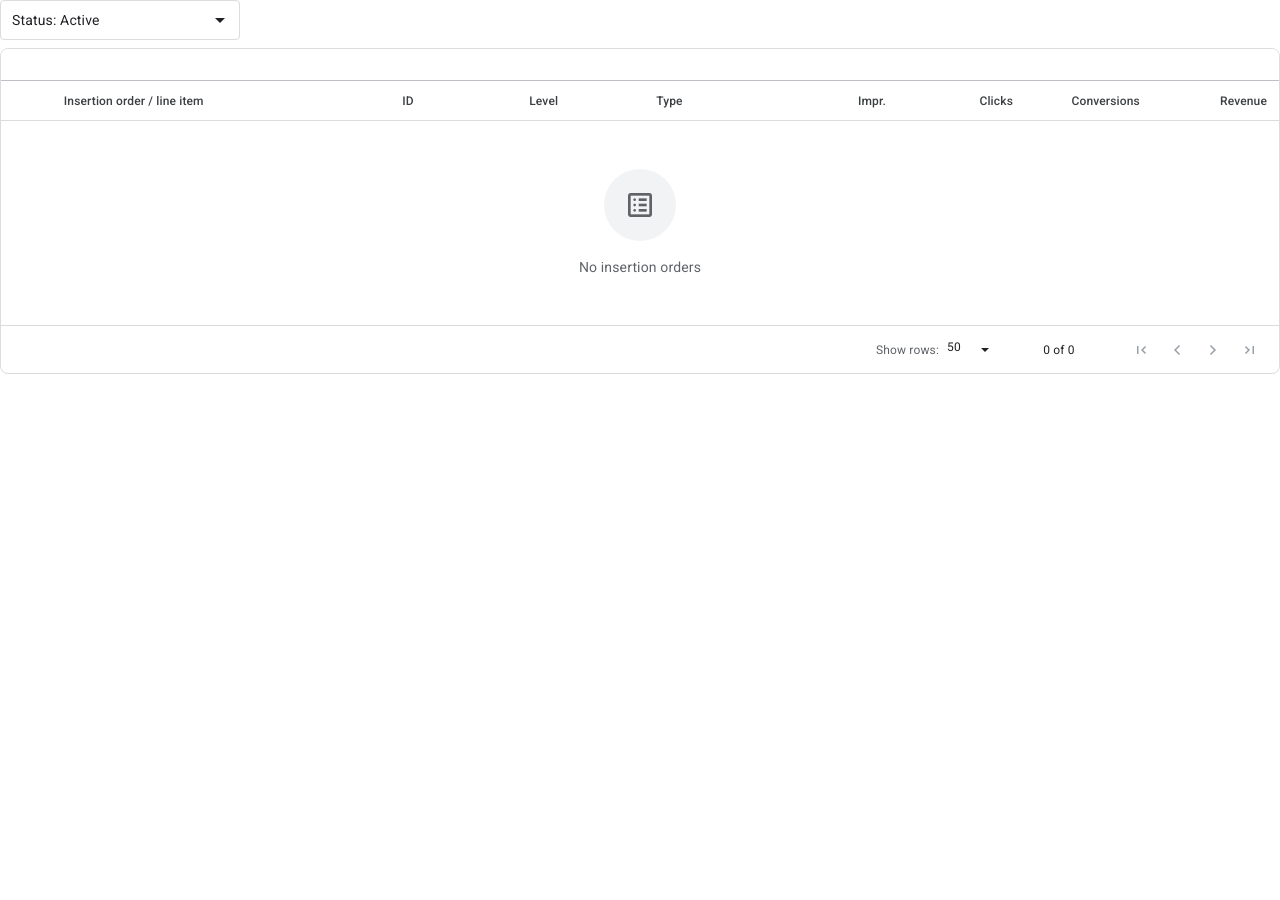
Test: Campaign Combined tab › uses the Active default of the Insertion orders tab: a draft IO is not listed until the filter allows it
Expected: the text "No insertion orders" is shown, [579, 257, 701, 277]
Expected: the text "IO 10" is not shown
Click the dropdown named "Status filter" at (56, 20), box [12, 12, 100, 28]
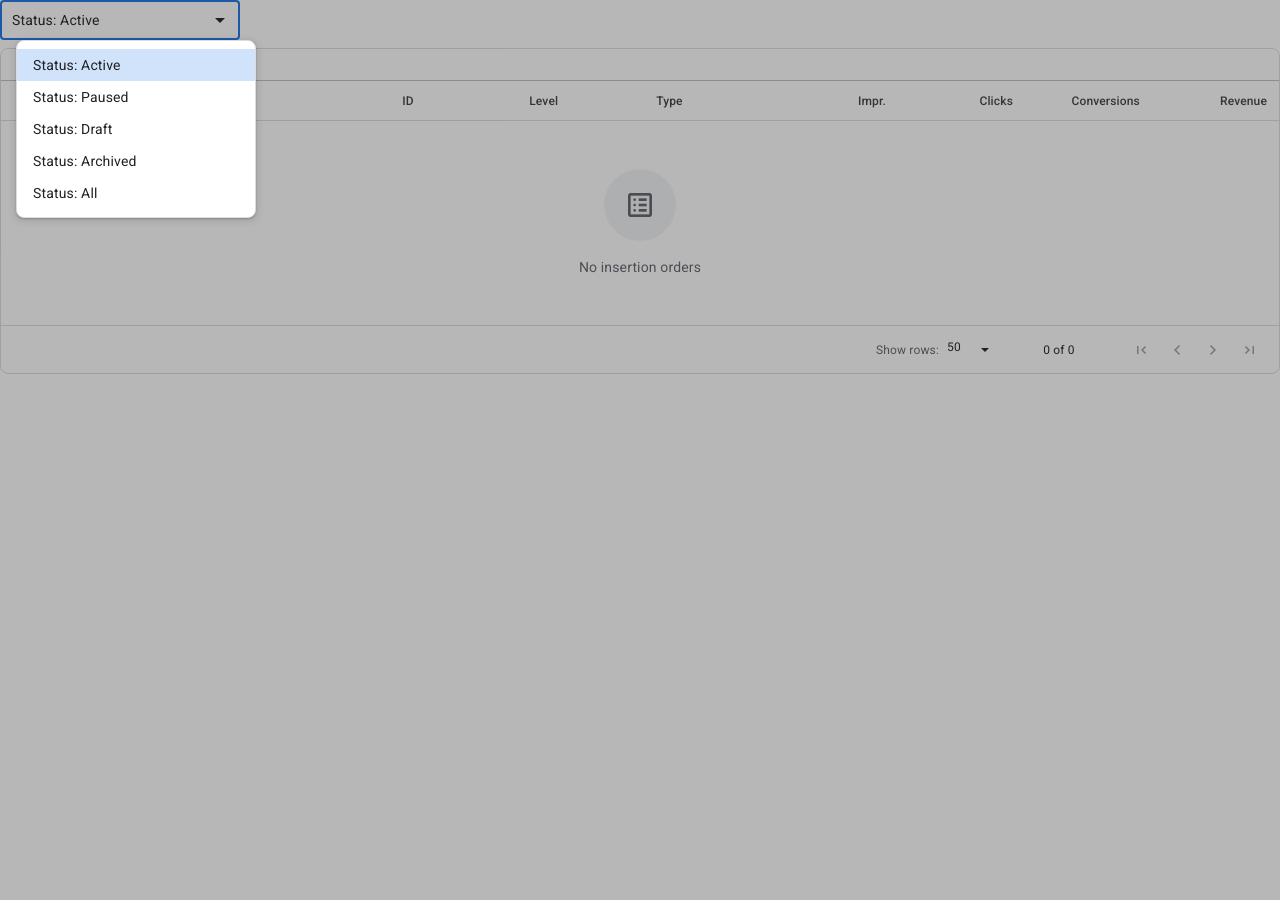
Click the option "Status: All" at (65, 193), box [33, 185, 98, 201]
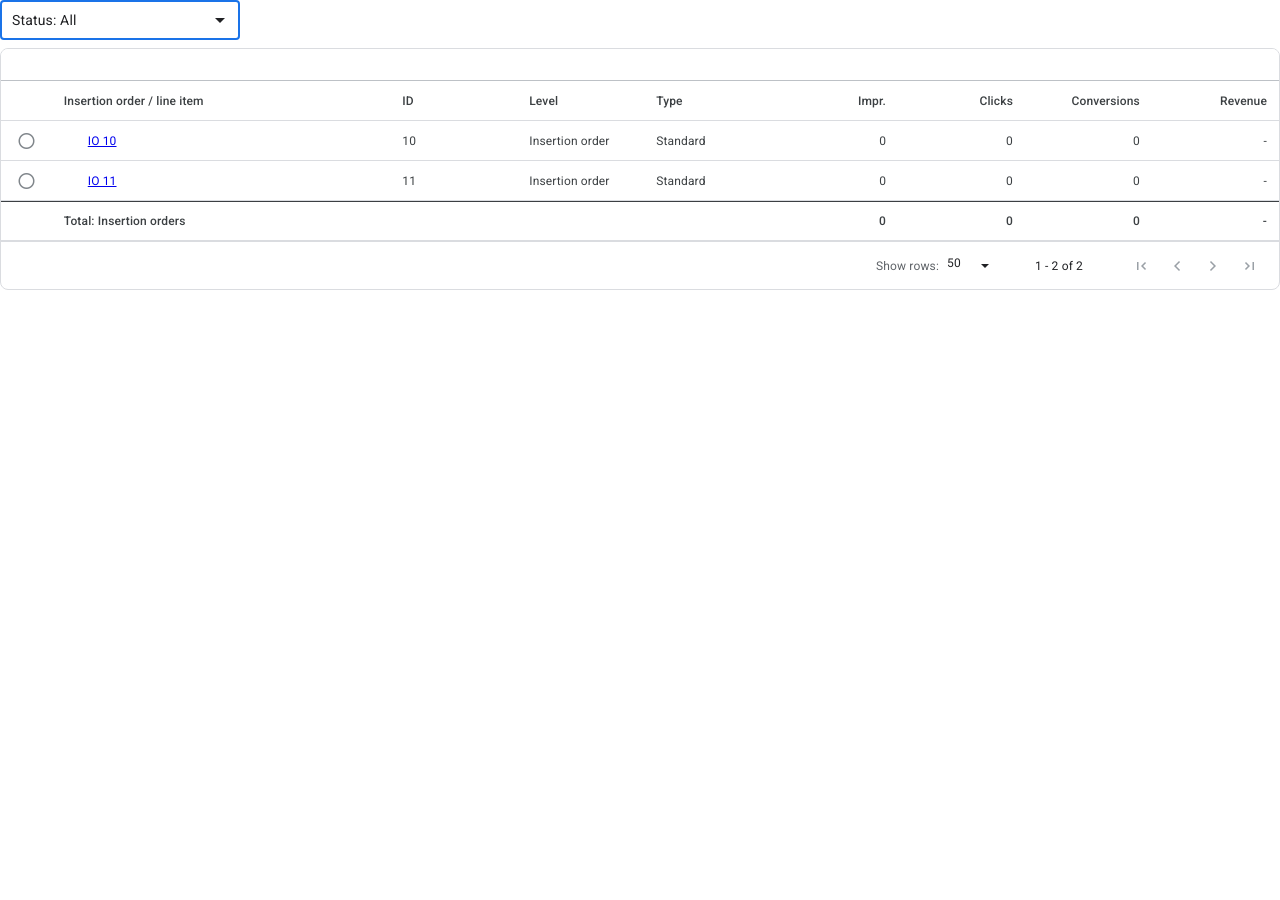
Now the link "IO 10" is shown, box [88, 134, 117, 148]
